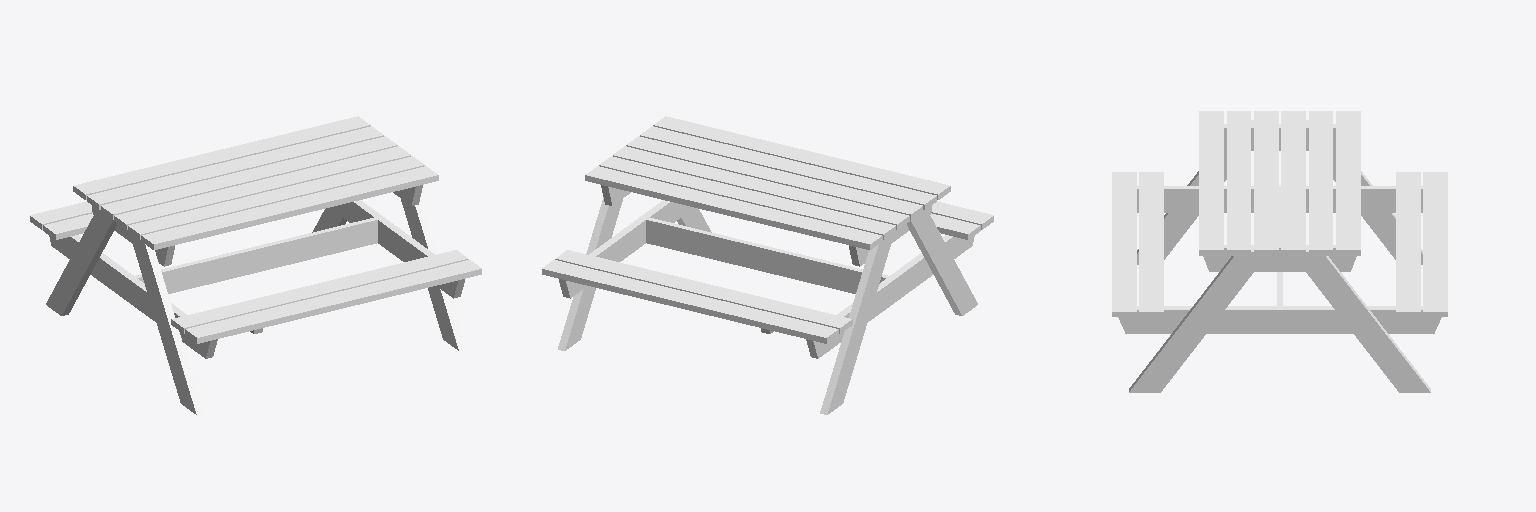
The model's file is picnictable.obj.
3 views of the same model, side by side, from view 1: azimuth 30°, elevation 25°; view 2: azimuth 150°, elevation 25°; view 3: azimuth 270°, elevation 25° (orthographic).
Visible parts, largest first — view 1: PicnicTable; view 2: PicnicTable; view 3: PicnicTable.
Part boxes in pixels (bbox=[...]): PicnicTable: bbox=[30, 116, 481, 414]; PicnicTable: bbox=[542, 116, 993, 414]; PicnicTable: bbox=[1112, 111, 1447, 392].
Size of the model in its own units: 65.99 by 33.48 by 67.33.